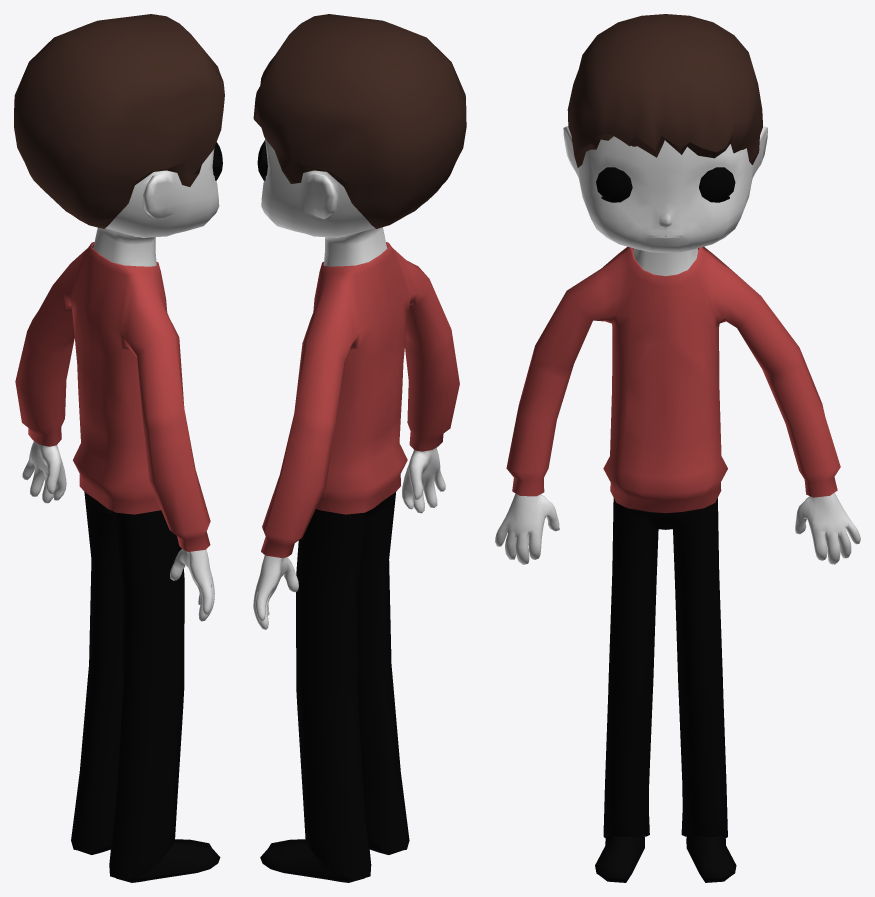
The model's file is scenaFbx.fbx.
3 renders of one model, left to right at view 1: azimuth 30°, elevation 25°; view 2: azimuth 150°, elevation 25°; view 3: azimuth 270°, elevation 25°, orthographic.
Visible parts, largest first — view 1: polySurface18; view 2: polySurface18; view 3: polySurface18.
Part boxes in pixels (x1,y1,x2,y2): polySurface18: [14, 14, 224, 882]; polySurface18: [253, 14, 466, 882]; polySurface18: [495, 14, 860, 882].
Size of the model in its own units: 0.6881 by 3.08 by 1.24.
